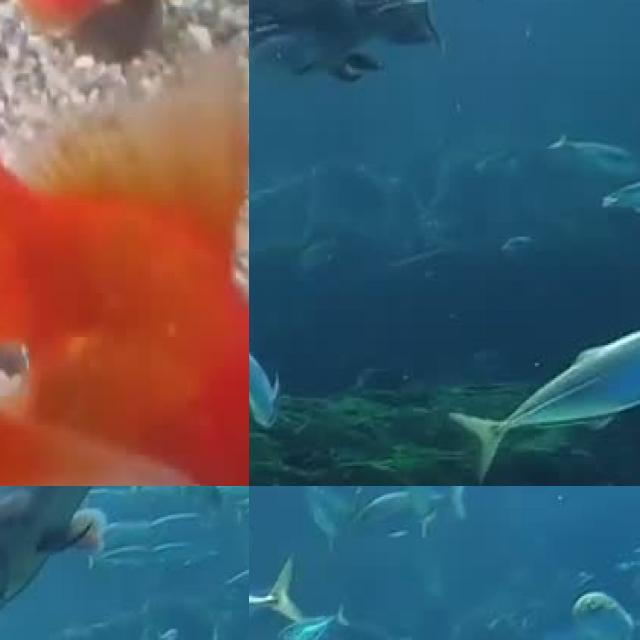fish: (0, 0, 249, 486), (249, 572, 311, 640)
